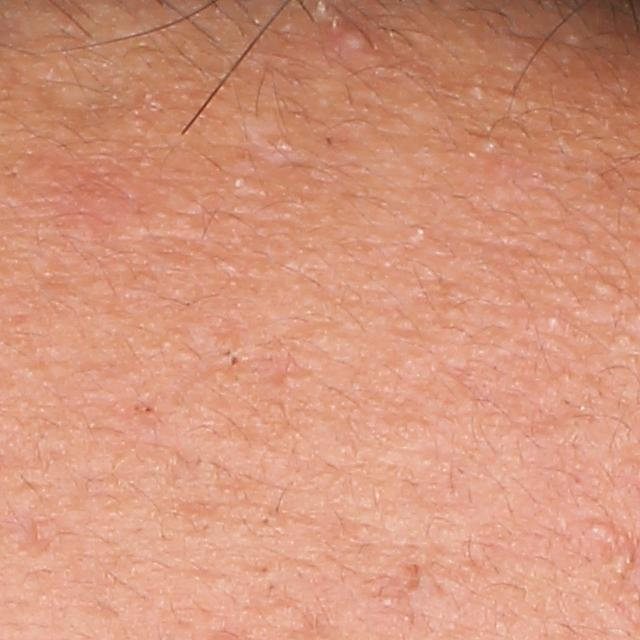comedo: (471, 133, 510, 162), (544, 306, 565, 331)
papule: (10, 517, 59, 561), (341, 23, 376, 57)
